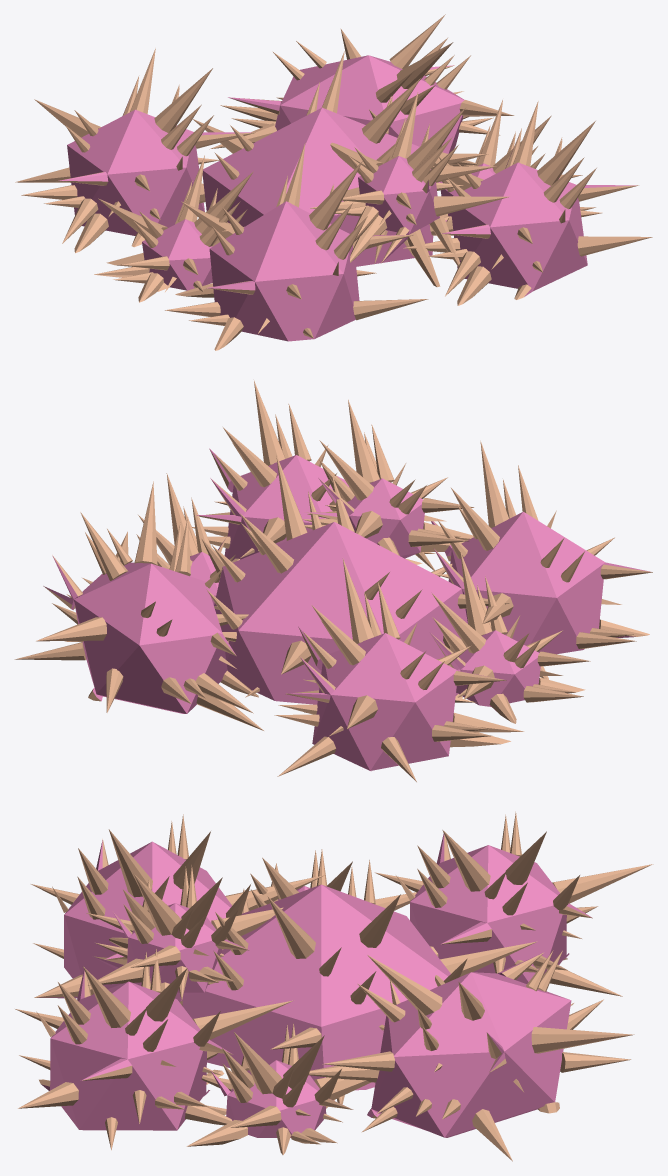
Rendered from spikes.fbx.
3 renders of one model, top to bottom at view 1: azimuth 30°, elevation 25°; view 2: azimuth 150°, elevation 25°; view 3: azimuth 270°, elevation 25°, orthographic. The views are drawn at different scales.
Visible parts, largest first — view 1: Cone.001; view 2: Cone.001; view 3: Cone.001.
Part boxes in pixels (x1,y1,x2,y2): Cone.001: (15, 14, 652, 350); Cone.001: (14, 380, 652, 781); Cone.001: (15, 811, 653, 1161).
Bounding box in the file's own units: 111 × 39.73 × 112.
